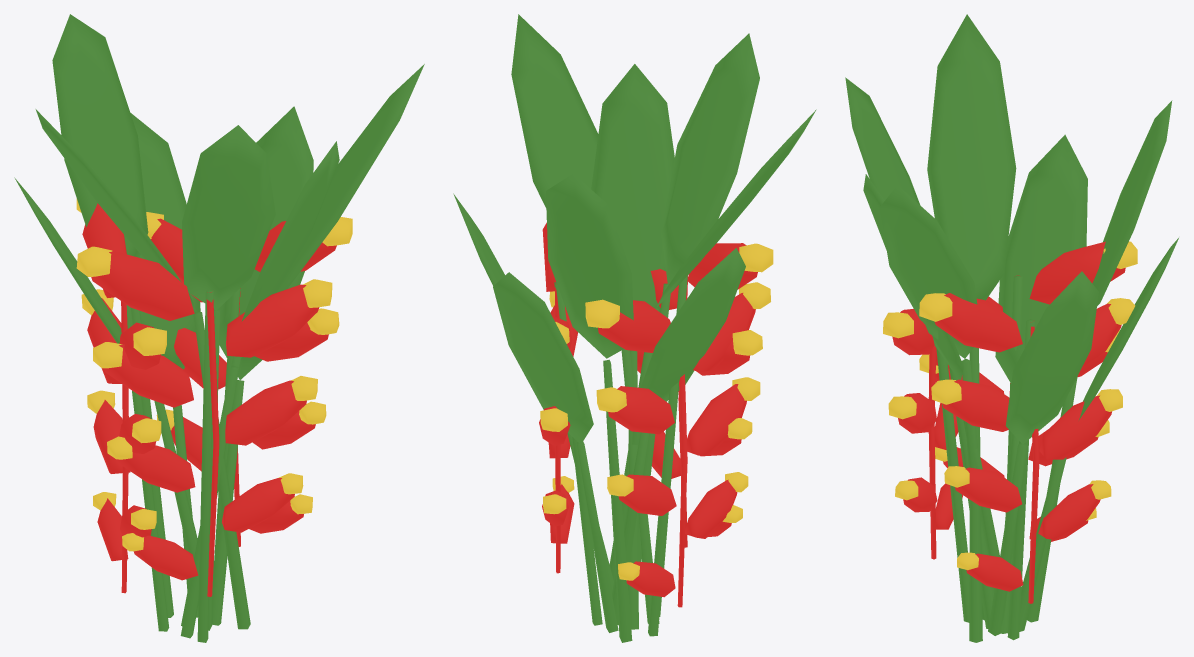
File: Blender_Heliconia_1.glb
3 renders of one model, left to right at view 1: azimuth 30°, elevation 25°; view 2: azimuth 150°, elevation 25°; view 3: azimuth 270°, elevation 25°, orthographic. The views are drawn at different scales.
Parts seen in each view (by area): view 1: Blender_Heliconia_1; view 2: Blender_Heliconia_1; view 3: Blender_Heliconia_1.
Boxes of the visible parts, x1,y1,x2,y2 form: Blender_Heliconia_1: (14, 14, 424, 642); Blender_Heliconia_1: (453, 14, 816, 642); Blender_Heliconia_1: (845, 14, 1178, 642).
Size of the model in its own units: 1.18 by 1.85 by 1.05.
